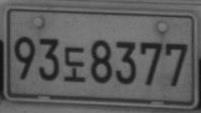3: (38, 37, 59, 81), (115, 40, 136, 84)
7: (163, 42, 188, 86), (139, 41, 163, 86)
8: (90, 38, 112, 84)
9: (13, 35, 35, 79)
도: (62, 46, 85, 82)
